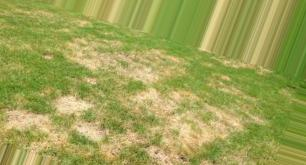patch: (75, 41, 174, 83), (153, 97, 214, 149), (12, 108, 62, 142), (59, 93, 83, 110)
